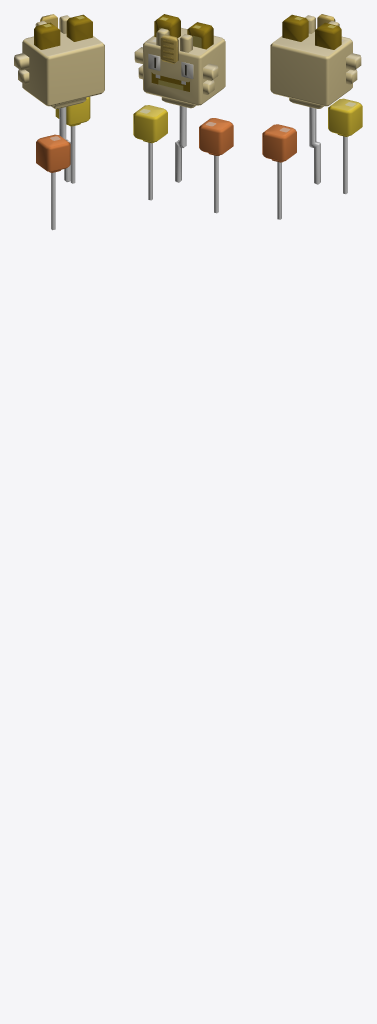
The model's file is G_makeover_S_4.fbx.
3 views of the same model, side by side, from view 1: azimuth 30°, elevation 25°; view 2: azimuth 150°, elevation 25°; view 3: azimuth 330°, elevation 25° (orthographic).
Parts seen in each view (by area): view 1: nyarth_model, baloon2, line, baloon1; view 2: nyarth_model, line, baloon1, baloon2; view 3: nyarth_model, line, baloon2, baloon1.
Part boxes in pixels (box(x1,y1,x2,y2)): nyarth_model: box(14, 14, 104, 108); baloon2: box(36, 134, 70, 172); line: box(51, 107, 75, 230); baloon1: box(55, 97, 90, 126); nyarth_model: box(134, 14, 225, 108); line: box(148, 106, 218, 213); baloon1: box(133, 105, 167, 143); baloon2: box(199, 118, 233, 155); nyarth_model: box(270, 14, 361, 108); line: box(277, 107, 347, 219); baloon2: box(262, 124, 296, 162); baloon1: box(328, 98, 362, 136).
Size of the model in its own units: 3.16 by 37.55 by 2.55.
